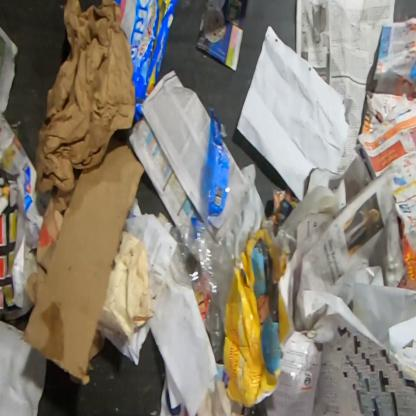cardboard: (23, 130, 145, 385), (212, 229, 295, 407), (88, 229, 156, 370), (25, 187, 74, 306)
rigid_plastic: (169, 107, 233, 365)
soft_plastic: (114, 0, 178, 124)
